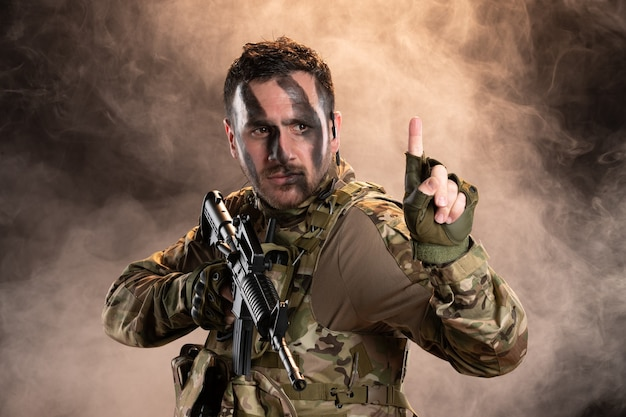gun: (201, 190, 307, 390)
